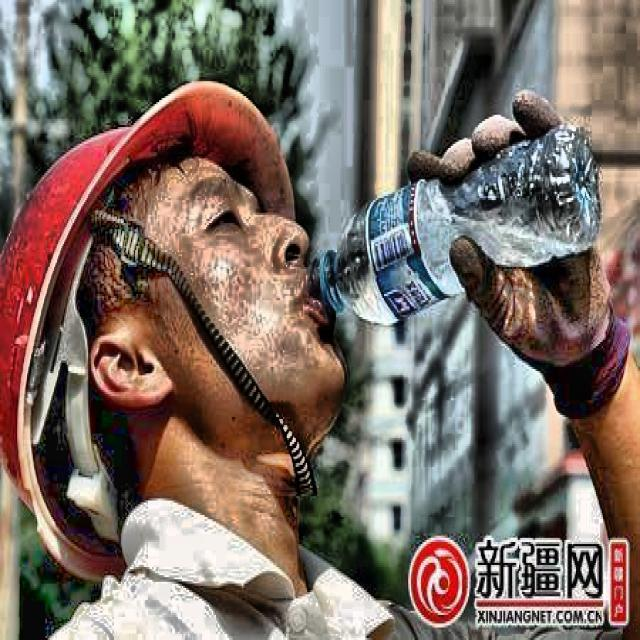helmet: (2, 77, 344, 578)
